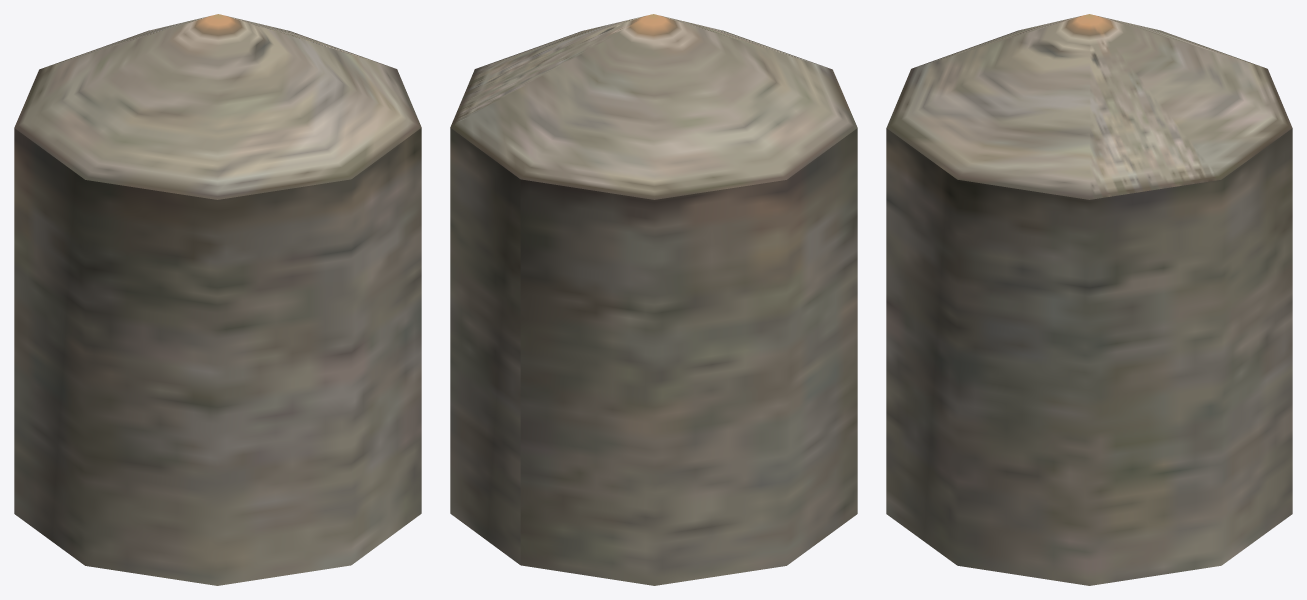
Rendered from M5_Pot02.glb.
3 views of the same model, side by side, from view 1: azimuth 30°, elevation 25°; view 2: azimuth 150°, elevation 25°; view 3: azimuth 270°, elevation 25° (orthographic).
Visible parts, largest first — view 1: M5_POT02; view 2: M5_POT02; view 3: M5_POT02.
Part boxes in pixels (x1,y1,x2,y2): M5_POT02: (14, 14, 421, 585); M5_POT02: (450, 14, 857, 585); M5_POT02: (886, 14, 1292, 585).
Size of the model in its own units: 0.243 by 0.324 by 0.246.
Materials: 1 (1 with a texture image).
